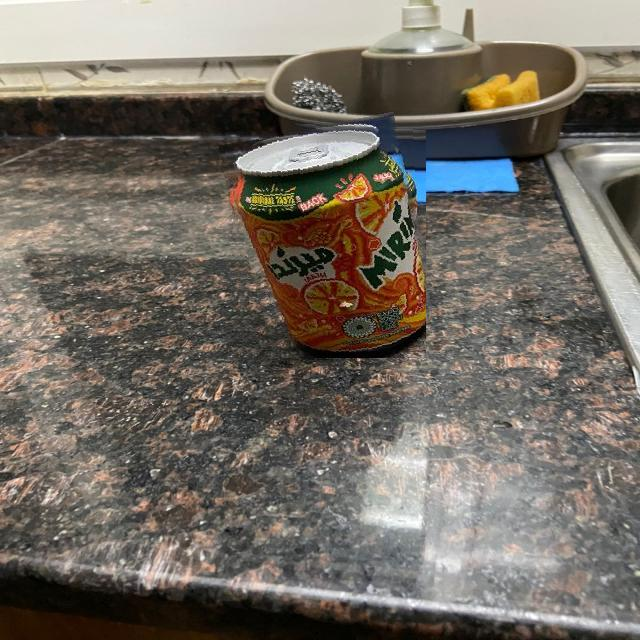recyclable: (229, 120, 426, 358)
